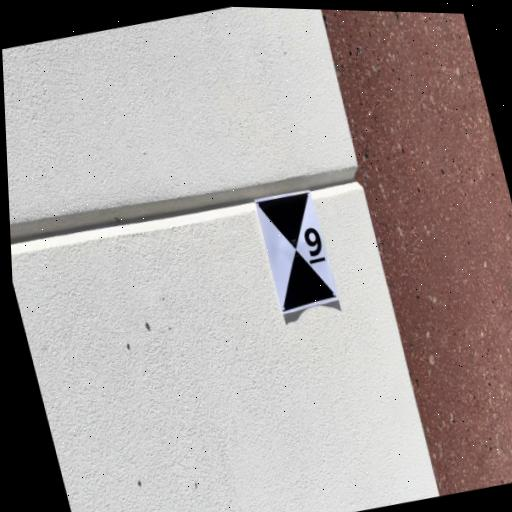target9: (254, 186, 339, 314)
